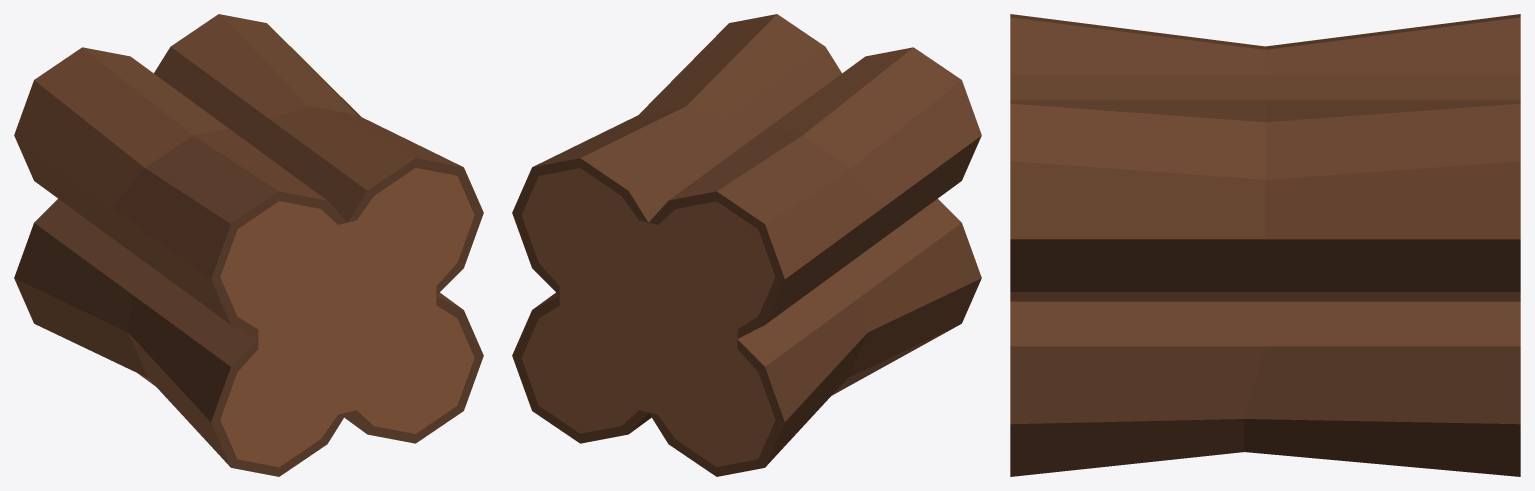
File: Log_6_Brown.fbx
The picture shows the model from 3 angles, left to right: view 1: azimuth 30°, elevation 25°; view 2: azimuth 150°, elevation 25°; view 3: azimuth 270°, elevation 25°; orthographic projection. The views are drawn at different scales.
Visible parts, largest first — view 1: Log_6_Brown; view 2: Log_6_Brown; view 3: Log_6_Brown.
Part boxes in pixels (<box>): Log_6_Brown: <box>14,14,483,476</box>; Log_6_Brown: <box>512,14,981,476</box>; Log_6_Brown: <box>1010,14,1520,476</box>.
Size of the model in its own units: 160 by 160 by 200.
